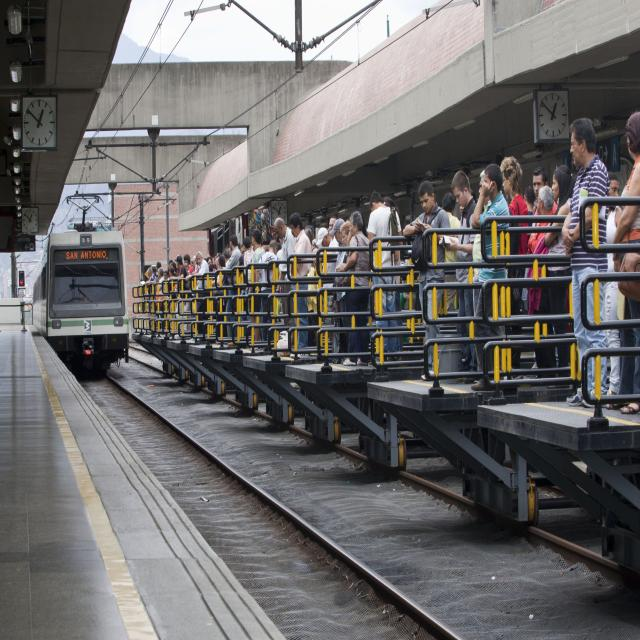body: (560, 116, 612, 412), (604, 111, 640, 414), (528, 164, 574, 389), (402, 180, 452, 383), (470, 161, 510, 390), (440, 170, 480, 385), (366, 189, 403, 367), (500, 156, 529, 380), (602, 172, 624, 408), (338, 210, 369, 367), (287, 212, 313, 360), (273, 216, 297, 358), (470, 169, 492, 315), (255, 240, 282, 354), (316, 227, 340, 346), (329, 218, 348, 367), (246, 228, 266, 352), (441, 192, 461, 311), (185, 251, 210, 343), (224, 233, 243, 349), (304, 228, 320, 357), (236, 235, 256, 338), (526, 185, 555, 256), (236, 236, 254, 337), (169, 255, 187, 332), (532, 166, 557, 216), (325, 216, 339, 287), (143, 268, 157, 328), (156, 268, 165, 331), (340, 220, 352, 264), (222, 247, 231, 304), (459, 188, 477, 216), (524, 185, 536, 226), (216, 254, 226, 286), (153, 261, 162, 293), (184, 260, 192, 282), (385, 196, 396, 212), (192, 255, 200, 274), (168, 266, 176, 278), (275, 238, 283, 250), (163, 270, 170, 281), (205, 256, 212, 266), (168, 260, 176, 268), (214, 250, 221, 256), (190, 260, 193, 268), (153, 271, 157, 276)
